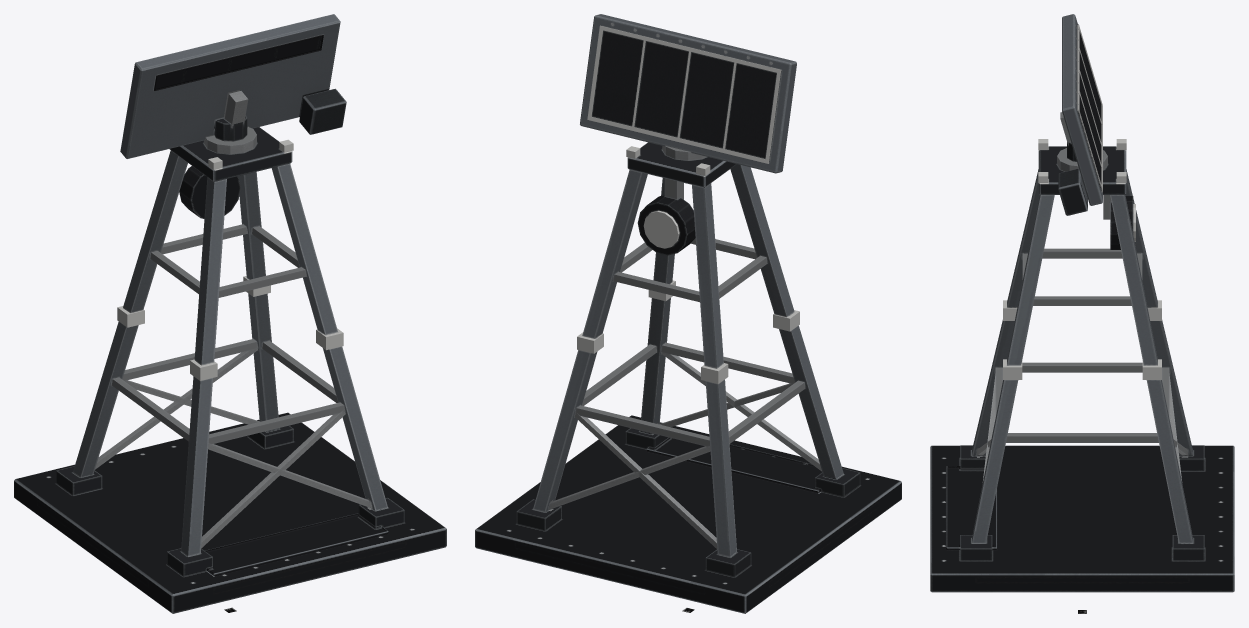
The model's file is chs_eye.fbx.
The picture shows the model from 3 angles, left to right: view 1: azimuth 30°, elevation 25°; view 2: azimuth 150°, elevation 25°; view 3: azimuth 270°, elevation 25°; orthographic projection. The views are drawn at different scales.
Visible parts, largest first — view 1: base_bar, radar_bar, base_glow_running_bar; view 2: base_bar, radar_bar, radar_glow_running_bar, base_glow_running_bar; view 3: base_bar, radar_bar, base_glow_running_bar, radar_glow_running_bar.
Boxes of the visible parts, bbox=[...] form: base_bar: bbox=[14, 127, 446, 613]; radar_bar: bbox=[120, 14, 346, 158]; base_glow_running_bar: bbox=[117, 139, 343, 380]; base_bar: bbox=[475, 142, 901, 613]; radar_bar: bbox=[580, 14, 796, 173]; radar_glow_running_bar: bbox=[587, 25, 781, 163]; base_glow_running_bar: bbox=[577, 146, 799, 383]; base_bar: bbox=[930, 146, 1234, 592]; radar_bar: bbox=[1058, 14, 1102, 215]; base_glow_running_bar: bbox=[1003, 139, 1161, 379]; radar_glow_running_bar: bbox=[1078, 24, 1102, 192].
Bounding box in the file's own units: 660 × 1319 × 660.
Materials: 2 (2 with a texture image).
